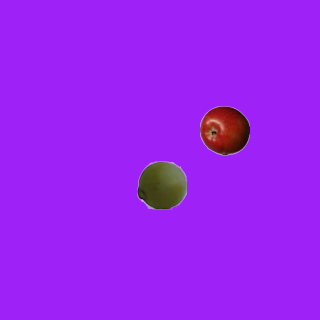Apple Braeburn: (199, 105, 249, 155)
Grape White 4: (136, 159, 186, 209)
